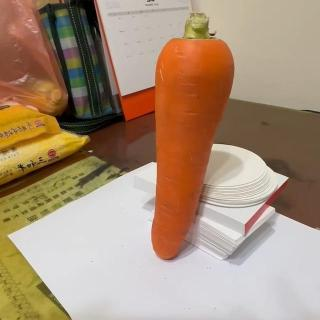carrot: (150, 13, 236, 261)
